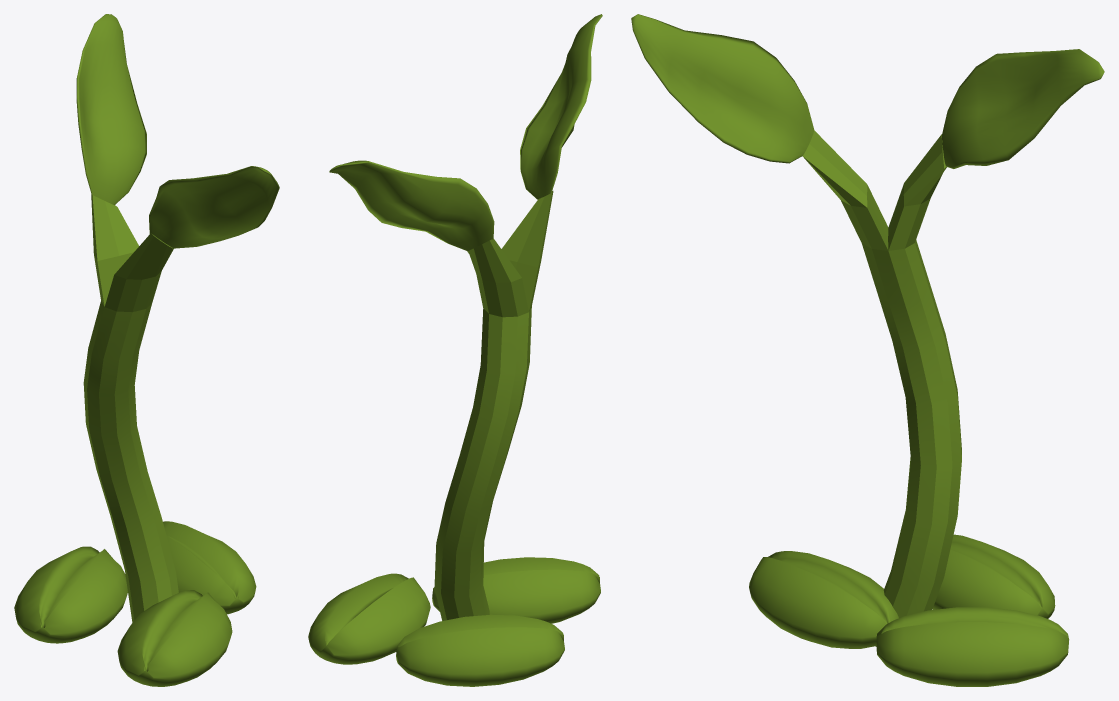
File: SeedV2Sprout.obj
The picture shows the model from 3 angles, left to right: view 1: azimuth 30°, elevation 25°; view 2: azimuth 150°, elevation 25°; view 3: azimuth 270°, elevation 25°; orthographic projection. The views are drawn at different scales.
Parts seen in each view (by area): view 1: pSphere8, pSphere4; view 2: pSphere8, pSphere4; view 3: pSphere8, pSphere4.
Part boxes in pixels (<box>): pSphere8: <box>76,14,279,622</box>; pSphere4: <box>14,521,256,686</box>; pSphere8: <box>329,14,602,620</box>; pSphere4: <box>308,557,600,686</box>; pSphere8: <box>631,14,1104,646</box>; pSphere4: <box>749,534,1069,686</box>.
Bounding box in the file's own units: 0.195 × 0.4614 × 0.3206.
